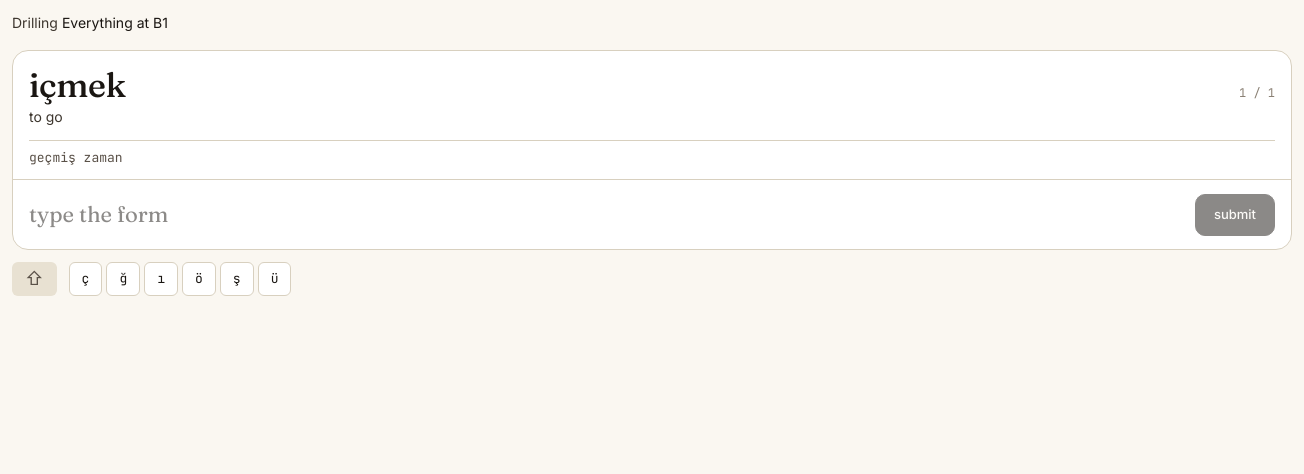
Scenario: PublicConjugationRunner › accepts a Turkish answer typed with a non-Turkish keyboard capital
"Içti" — capital I from a non-TR keyboard. gradeFluencyAnswer folds both ways.
In the field: (608, 215) [29,188,1187,241], type "Içti"
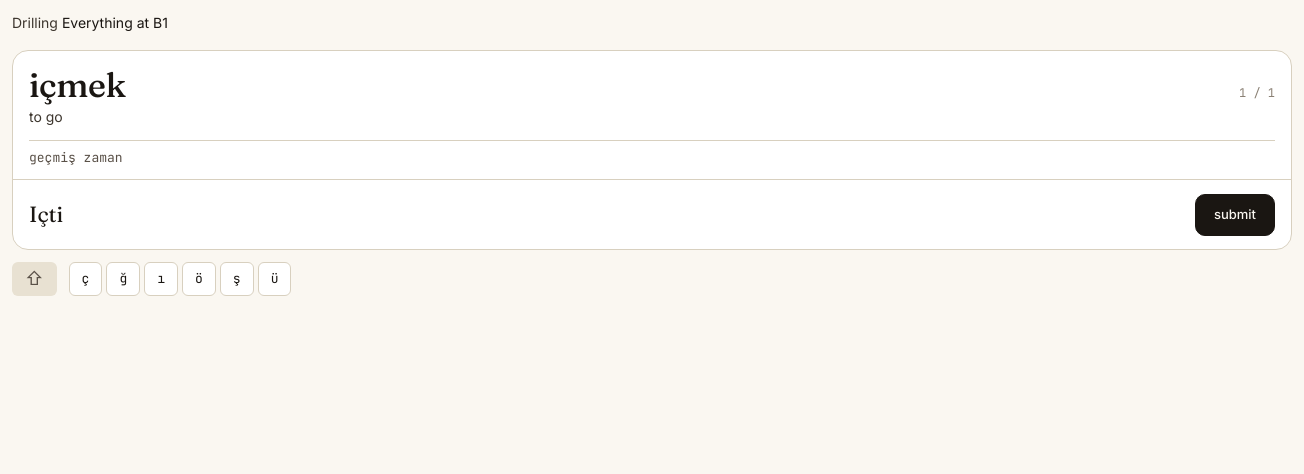
Click the button "submit": (1235, 215) [1195,194,1275,236]
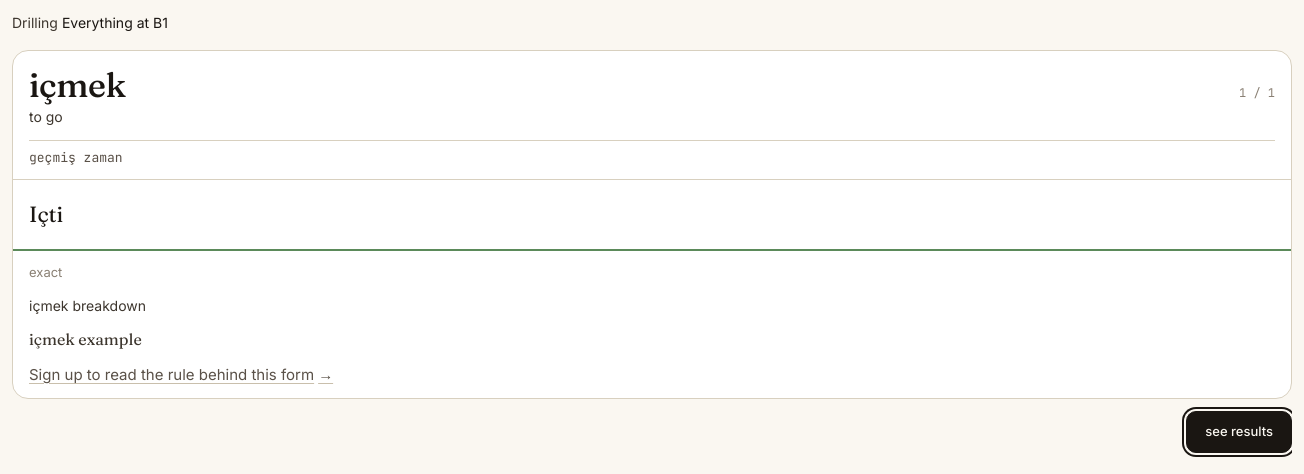
Expected: the text "exact" is shown, [29,263,62,283]
